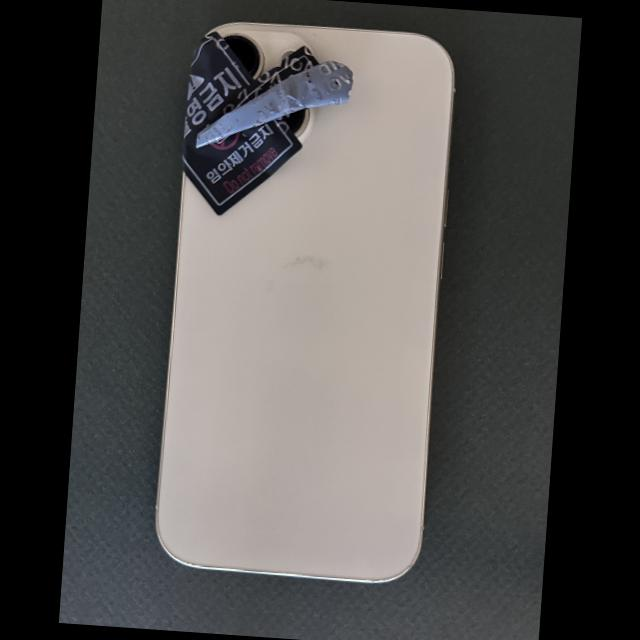lens: (221, 32, 264, 80), (282, 108, 309, 137)
phone: (155, 22, 454, 584)
sticker: (181, 31, 302, 216), (196, 45, 353, 148)
